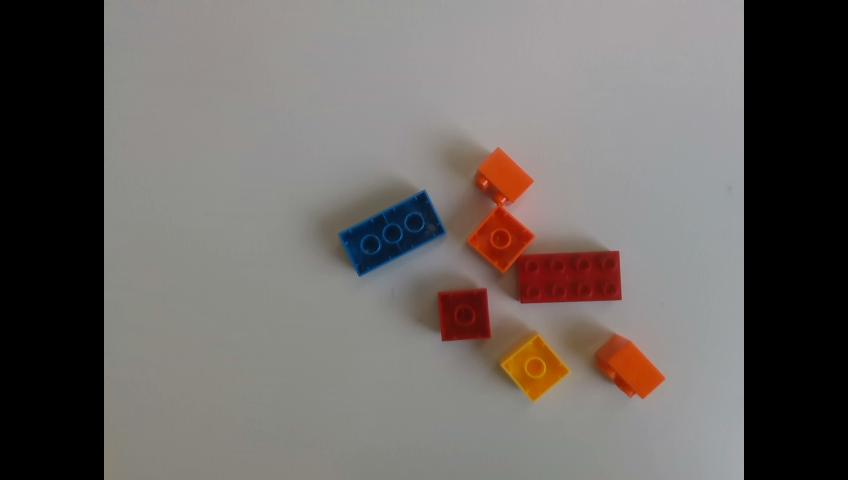2x2_orange: (465, 205, 539, 275), (595, 334, 667, 399), (475, 146, 534, 208)
2x2_red: (437, 287, 491, 343)
2x2_yellow: (499, 327, 572, 404)
4x2_blue: (337, 189, 447, 277)
4x2_red: (516, 252, 623, 304)
